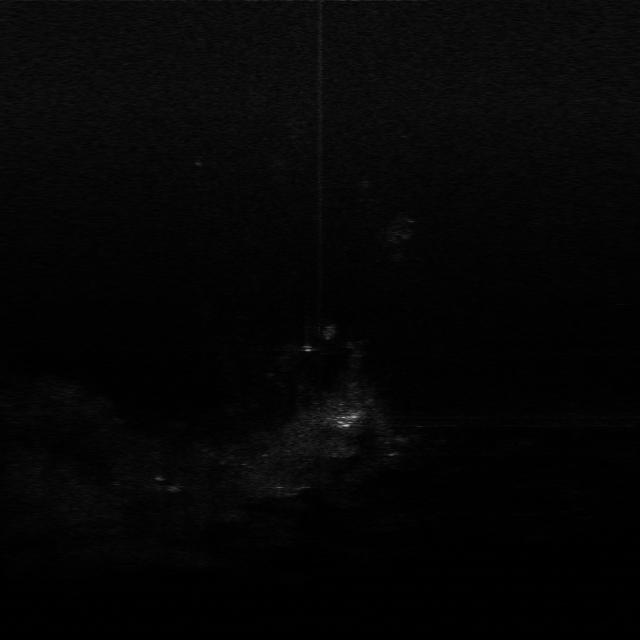rov: (329, 407, 362, 430)
